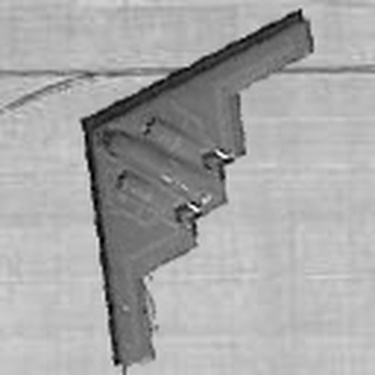airplane: (73, 8, 315, 369)
